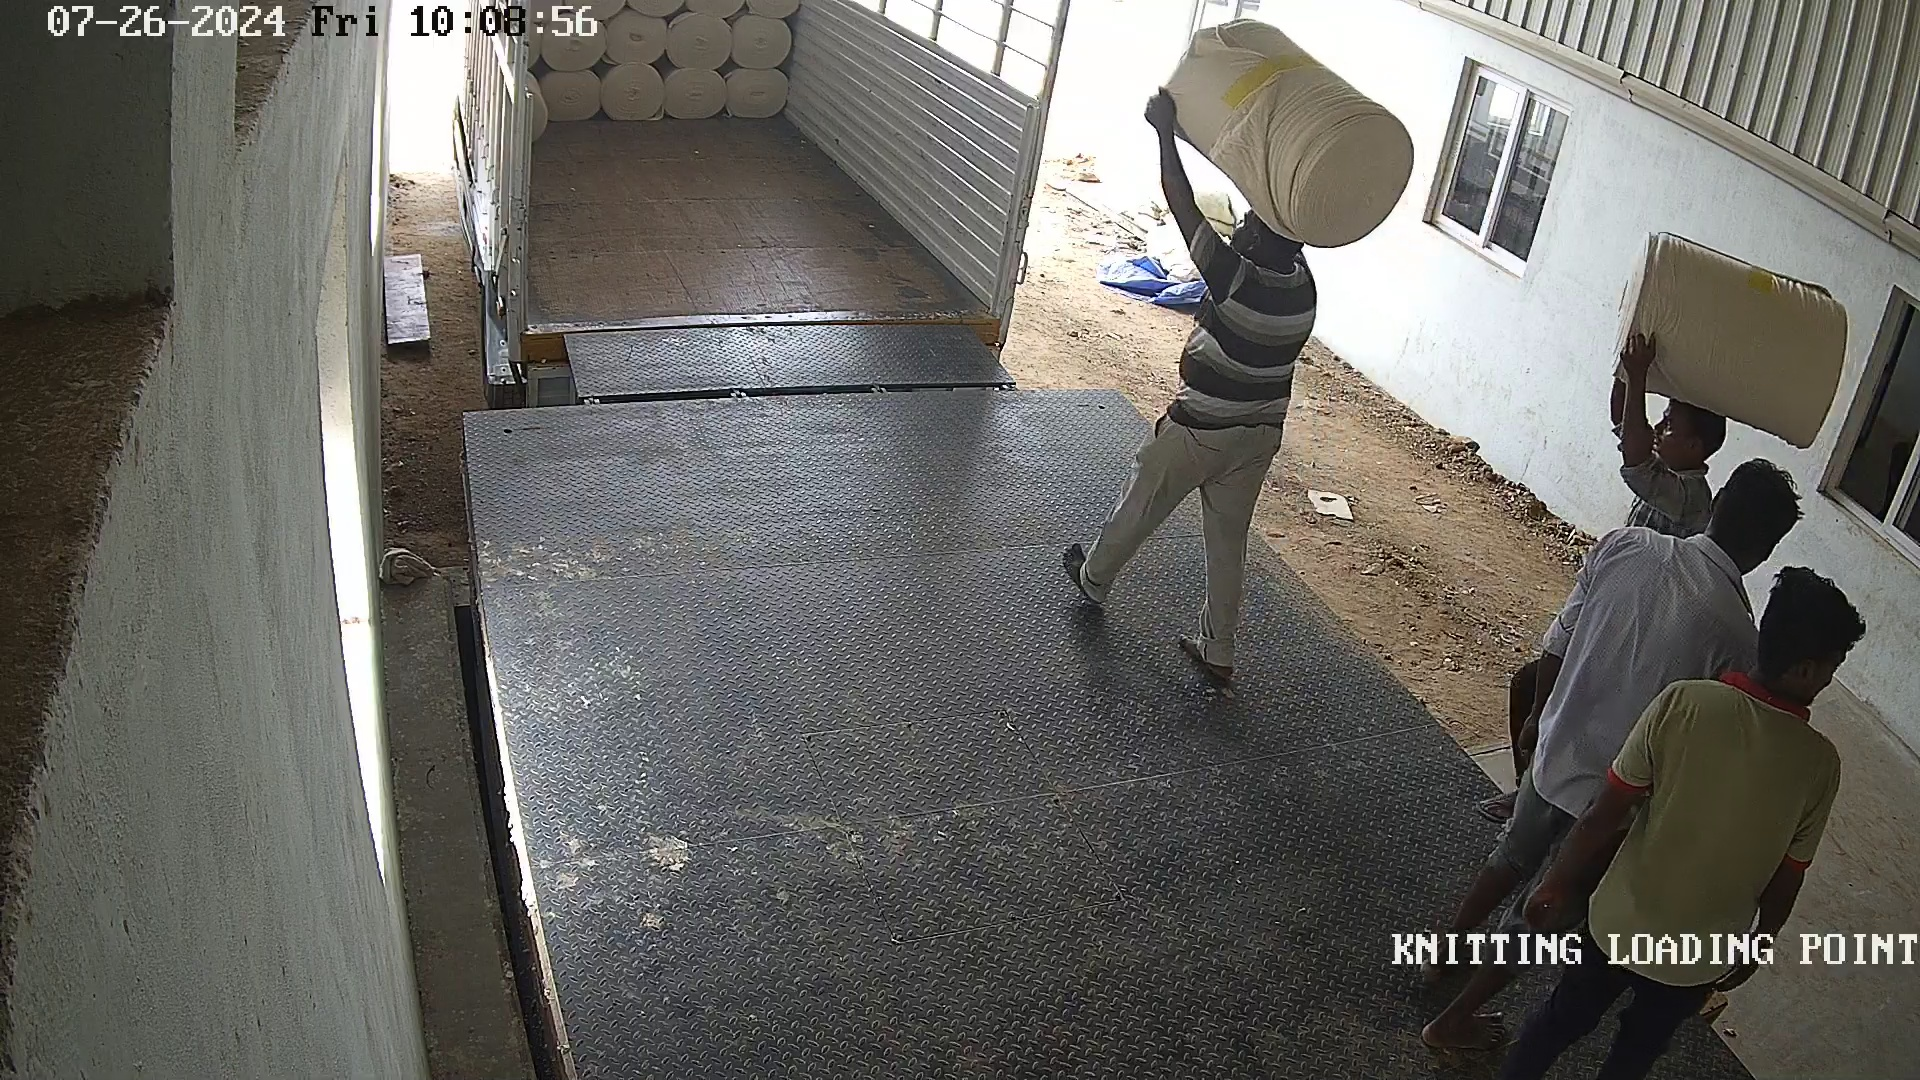bag: (1147, 18, 1418, 249)
